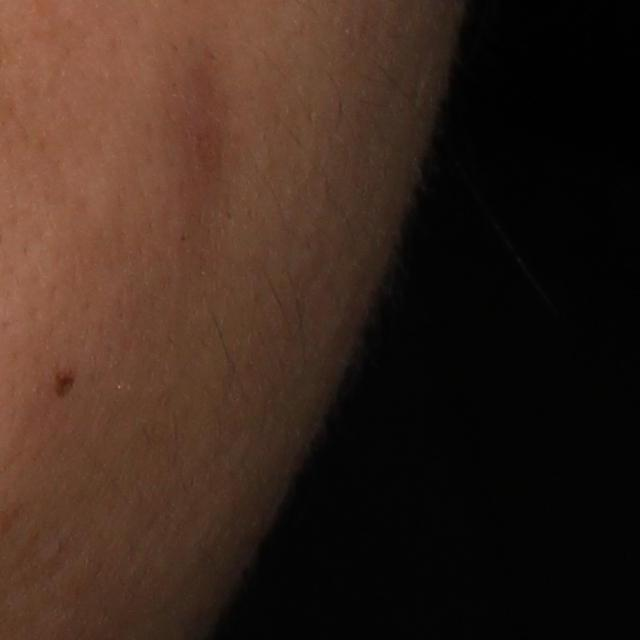nevus: (52, 366, 79, 400)
